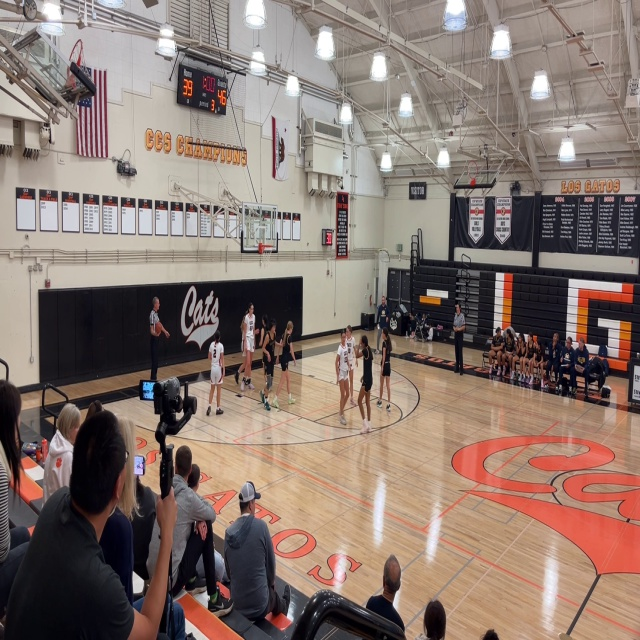Basketball: (152, 322, 161, 336)
